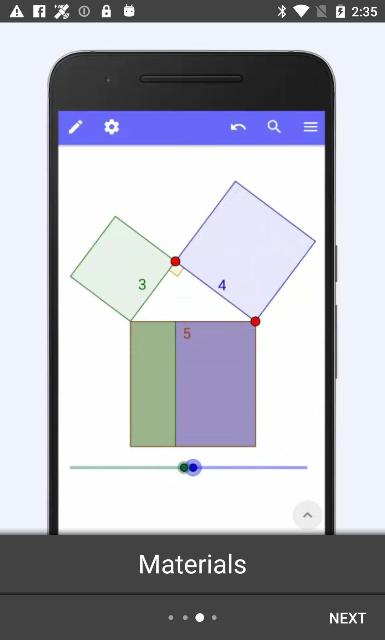Image: (46, 49, 338, 534)
PageIndicator: (168, 612, 216, 622)
Text: (140, 552, 246, 574), (330, 612, 366, 624)
UpperTaskBar: (0, 0, 384, 22)
